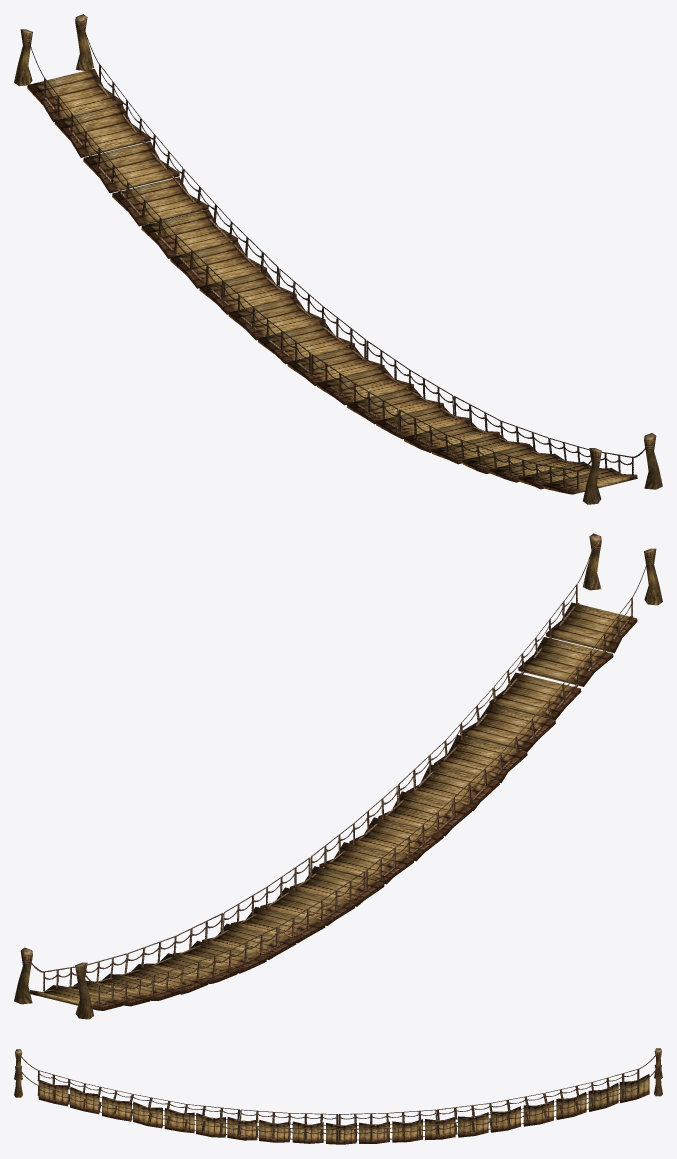
The model's file is obj_macoprviaduct01-1.glb.
3 renders of one model, top to bottom at view 1: azimuth 30°, elevation 25°; view 2: azimuth 150°, elevation 25°; view 3: azimuth 270°, elevation 25°, orthographic. The views are drawn at different scales.
Parts seen in each view (by area): view 1: part_0; view 2: part_0; view 3: part_0.
Part boxes in pixels (x1,y1,x2,y2): part_0: (14, 14, 662, 504); part_0: (14, 533, 662, 1019); part_0: (14, 1048, 662, 1144).
Bounding box in the file's own units: 7.31 × 13.16 × 97.14.
Materials: 1 (1 with a texture image).
